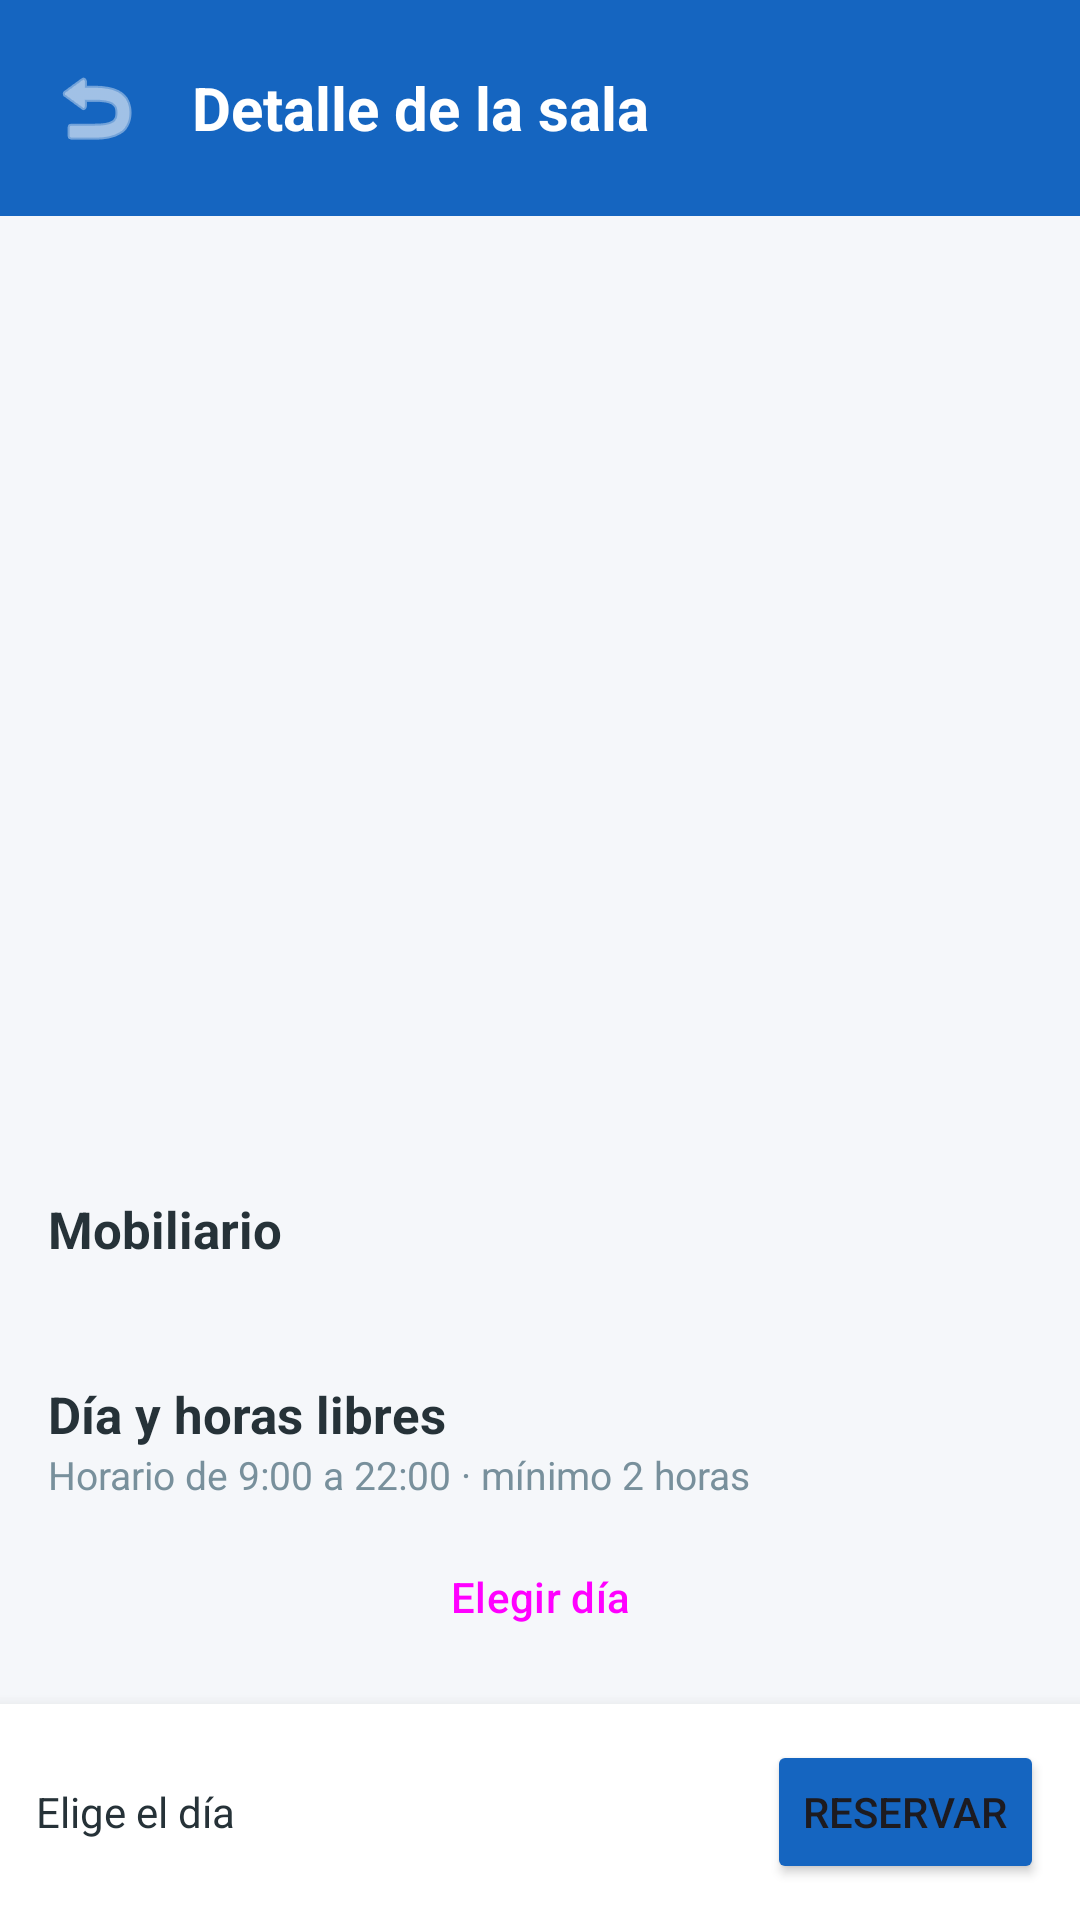

Locate icon controls on the screen. Image size 1080x1920, boxes as (x1, y1, x2, y2).
Regresar: (63, 77, 132, 140)
